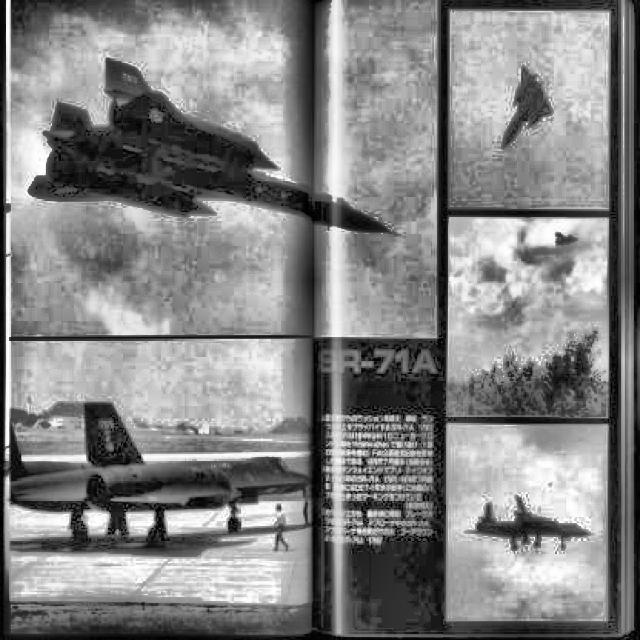SR71: (28, 58, 402, 236), (9, 401, 311, 550), (464, 494, 594, 552), (501, 64, 553, 150), (553, 230, 581, 248)
